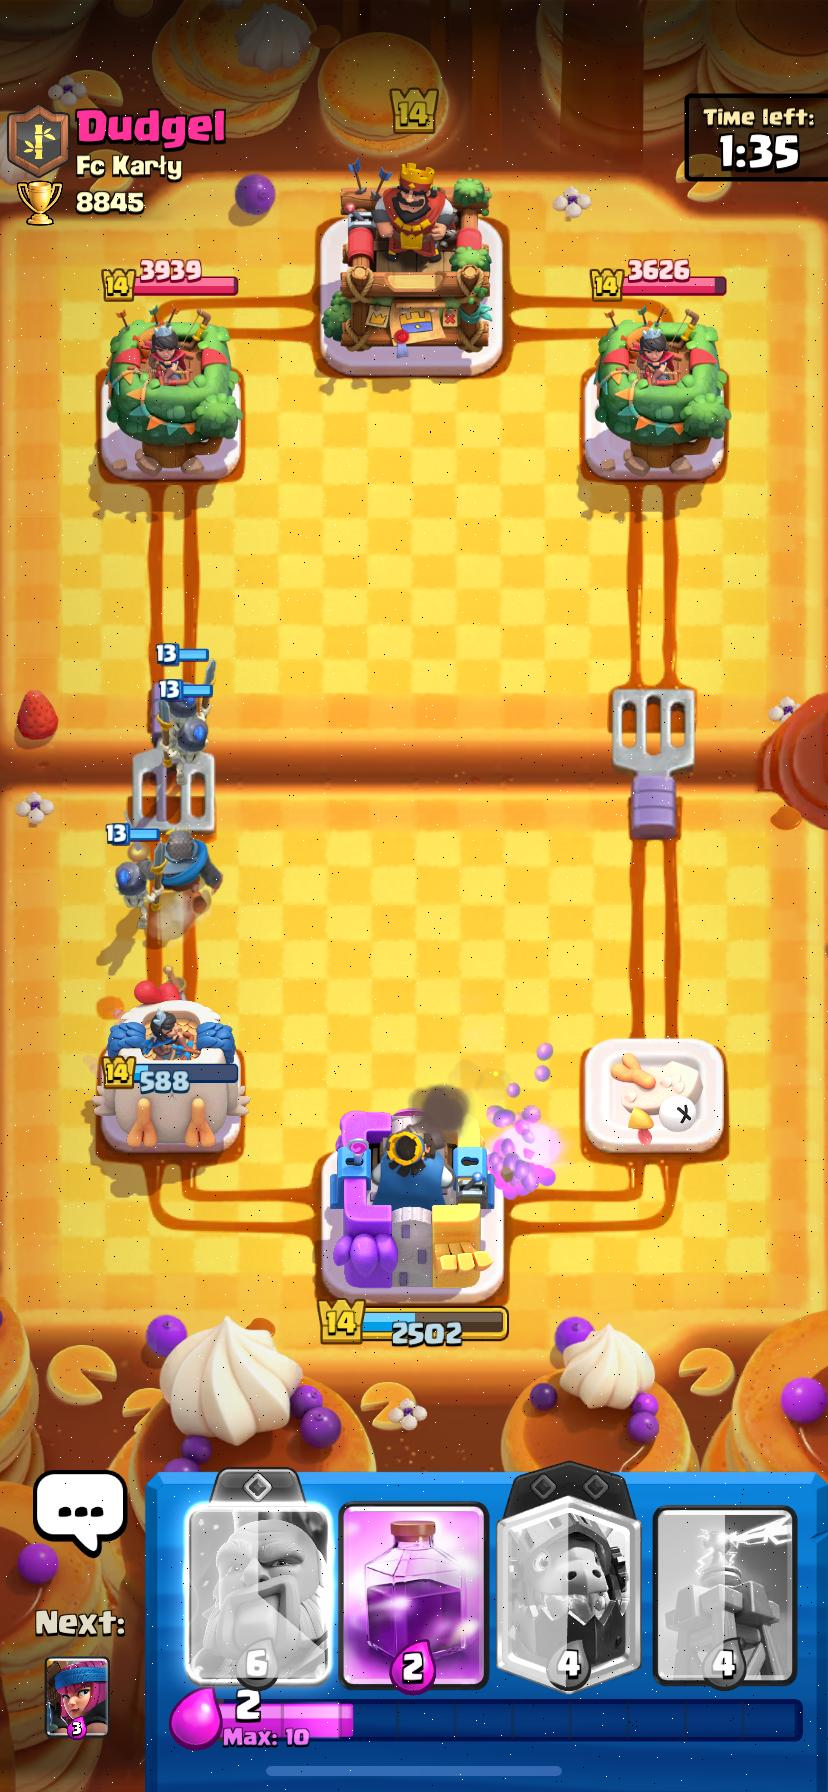EKingTower: (321, 165, 501, 376)
EnemyPrincessTower: (102, 304, 242, 479), (594, 307, 729, 478)
OGuard: (162, 715, 213, 785), (116, 856, 159, 917), (160, 691, 210, 723)
OKnight: (152, 827, 221, 905)
OwnKingTower: (321, 1109, 503, 1306)
OwnPrincessTower: (95, 999, 247, 1151)
TowerDown: (582, 1037, 725, 1155)
